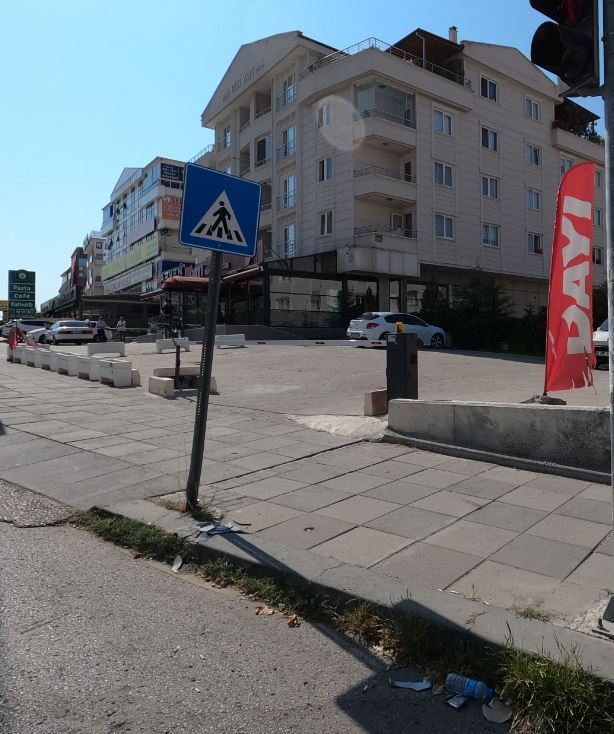Yaya Gecidi: (187, 166, 258, 253)
